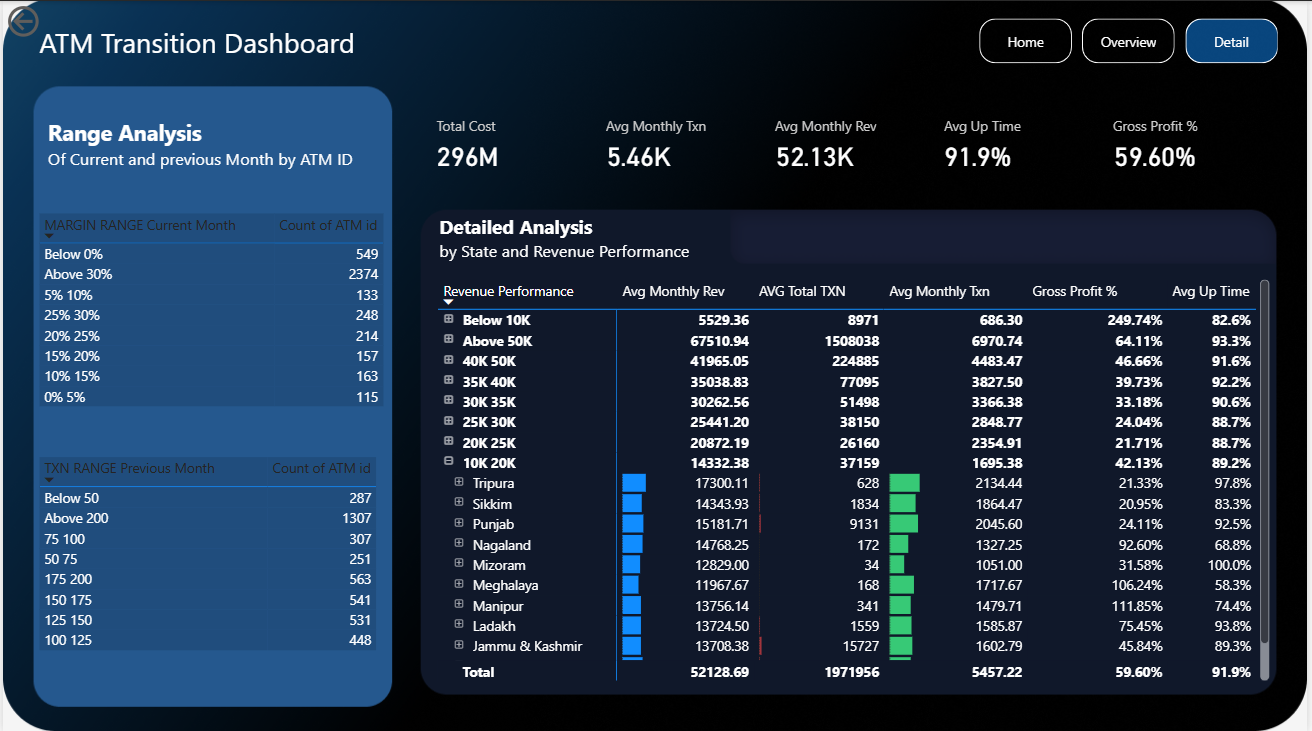

The dashboard page shown, as its layout file describes it:
{"tool":"powerbi","page":{"name":"Detail","canvas":[1280,720],"ordinal":2},"visuals":[{"type":"tableEx","fields":{"Values":["Dataset.MARGIN RANGE Current Month","Dataset.ATM id"]},"box":[28.8,203.3,350.4,210.5],"z":0},{"type":"tableEx","fields":{"Values":["Dataset.TXN RANGE Previous Month","Dataset.ATM id"]},"box":[28.8,442.6,350.4,209.1],"z":1000},{"type":"textbox","box":[38.9,106.7,331.6,72.1],"z":2000},{"type":"actionButton","box":[0,0,100,40],"z":3000},{"type":"pivotTable","fields":{"Rows":["Dataset.Revenue Performance","Dataset.STATE","Dataset.ATM id"],"Values":["Avg(Dataset.Monthly Rev)","Sum(Dataset.AVG Total TXN)","Avg(Dataset.Monthly Txn)","Dataset.Gross Profit Percentage","Avg(Dataset.Up Time)"]},"box":[422.4,268.2,826.1,403.7],"z":4000},{"type":"cardVisual","fields":{"Data":["Sum(Dataset. Total Cost  )","Avg(Dataset.Monthly Txn)","Avg(Dataset.Monthly Rev)","Avg(Dataset.Up Time)","Dataset.Gross Profit Percentage"]},"box":[408.6,91.4,834.8,95.9],"z":5000},{"type":"pageNavigator","box":[958.7,17.7,295,44.2],"z":6000},{"type":"textbox","box":[31,17.7,390.9,57.5],"z":7000},{"type":"textbox","box":[422.8,203.3,361.3,80.5],"z":8000},{"type":"cardVisual","title":" title","fields":{"Data":["Min(Dataset.STATE)"]},"box":[848.5,197.5,354,70.2],"z":9000}]}

Visuals, with their boxes in screenshot pixels (x1, y1, x2, y2), scaled from the page's 1280x720 canvas onto the 1312x731 screenshot:
tableEx - Dataset.MARGIN RANGE Current Month x Dataset.ATM id: l=30, t=206, r=389, b=420
tableEx - Dataset.TXN RANGE Previous Month x Dataset.ATM id: l=30, t=449, r=389, b=662
textbox: l=40, t=108, r=380, b=182
actionButton: l=0, t=0, r=102, b=41
pivotTable - Dataset.Revenue Performance x Dataset.STATE: l=433, t=272, r=1280, b=682
cardVisual - Sum(Dataset. Total Cost  ) x Avg(Dataset.Monthly Txn): l=419, t=93, r=1274, b=190
pageNavigator: l=983, t=18, r=1285, b=63
textbox: l=32, t=18, r=432, b=76
textbox: l=433, t=206, r=804, b=288
" title" cardVisual: l=870, t=201, r=1233, b=272
